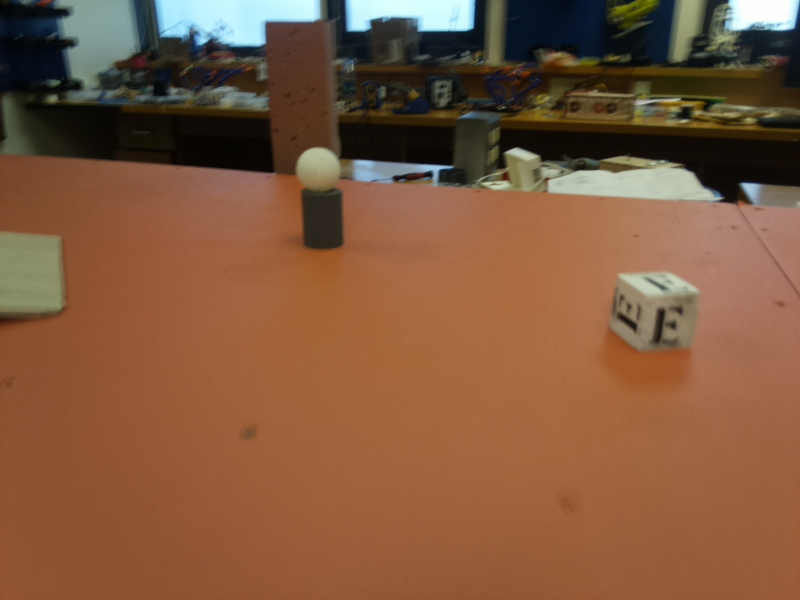blockE: (611, 268, 693, 355)
obstacle: (300, 146, 340, 248)
